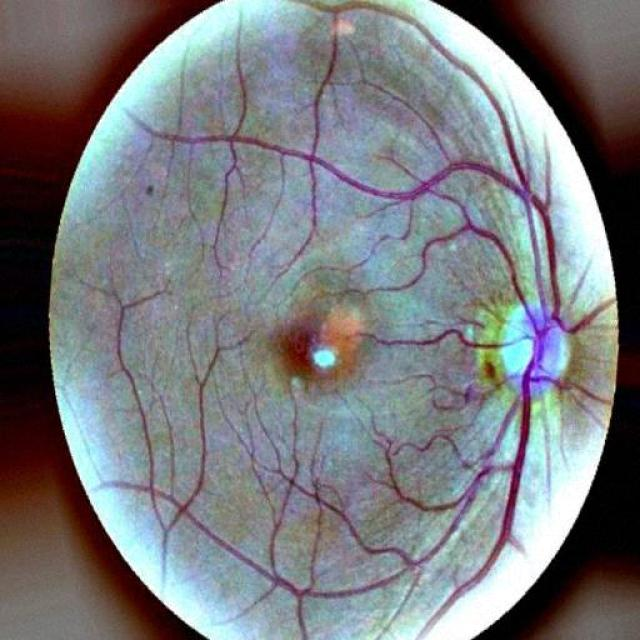Macula: (279, 322, 320, 378)
Nerves: (408, 78, 612, 609), (362, 318, 519, 349)
Optic Disk: (499, 302, 568, 385)
